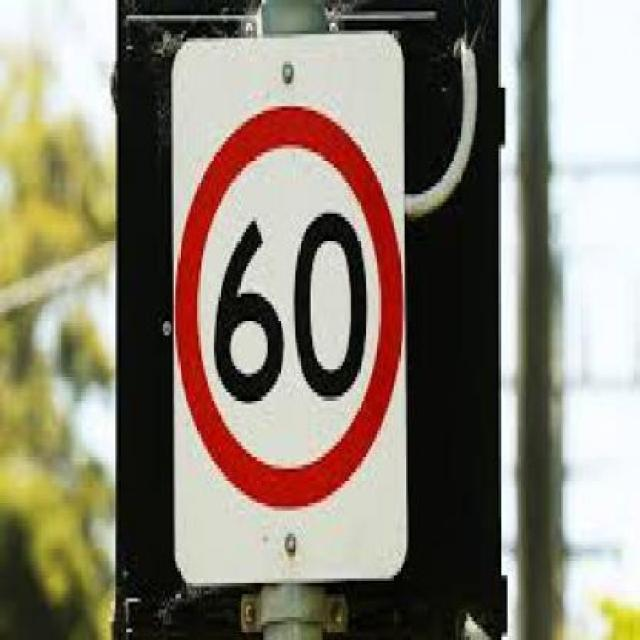forb_speed_over_60: (178, 105, 399, 508)
